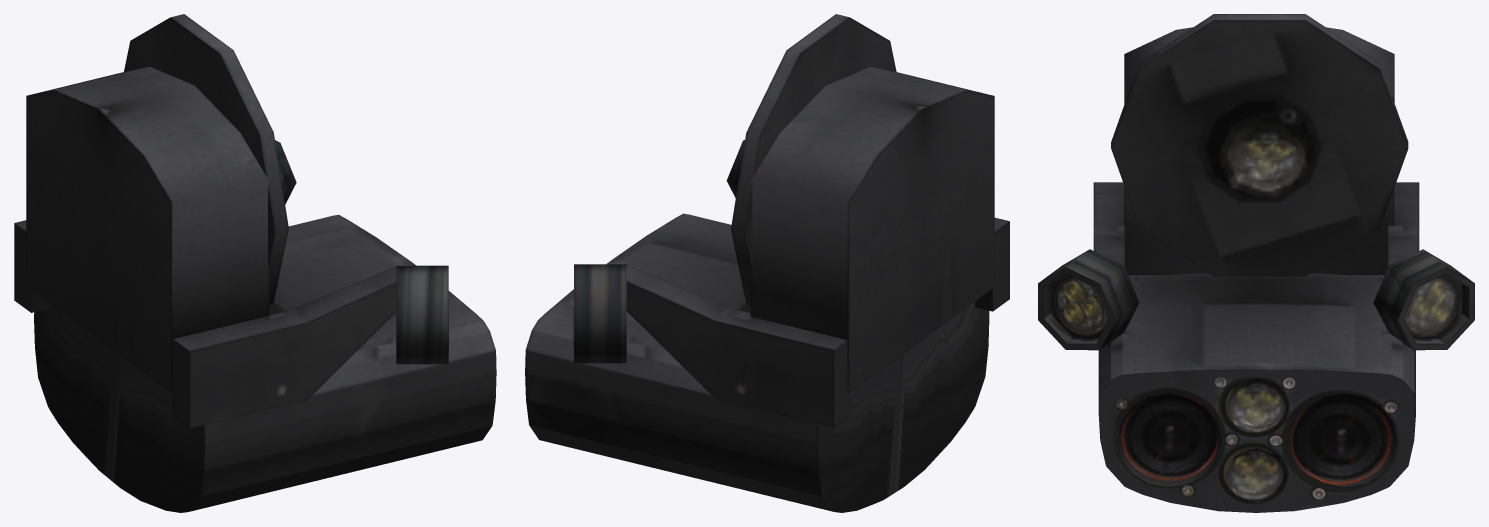
The picture shows the model from 3 angles, left to right: view 1: azimuth 30°, elevation 25°; view 2: azimuth 150°, elevation 25°; view 3: azimuth 270°, elevation 25°; orthographic projection. The views are drawn at different scales.
Visible parts, largest first — view 1: head; view 2: head; view 3: head.
Boxes of the visible parts, box(x1,y1,x2,y2) form: head: box(14, 14, 496, 512); head: box(525, 14, 1009, 512); head: box(1038, 14, 1474, 512).
Size of the model in its own units: 13.26 by 17.61 by 17.36.
1 material, 1 textured.
